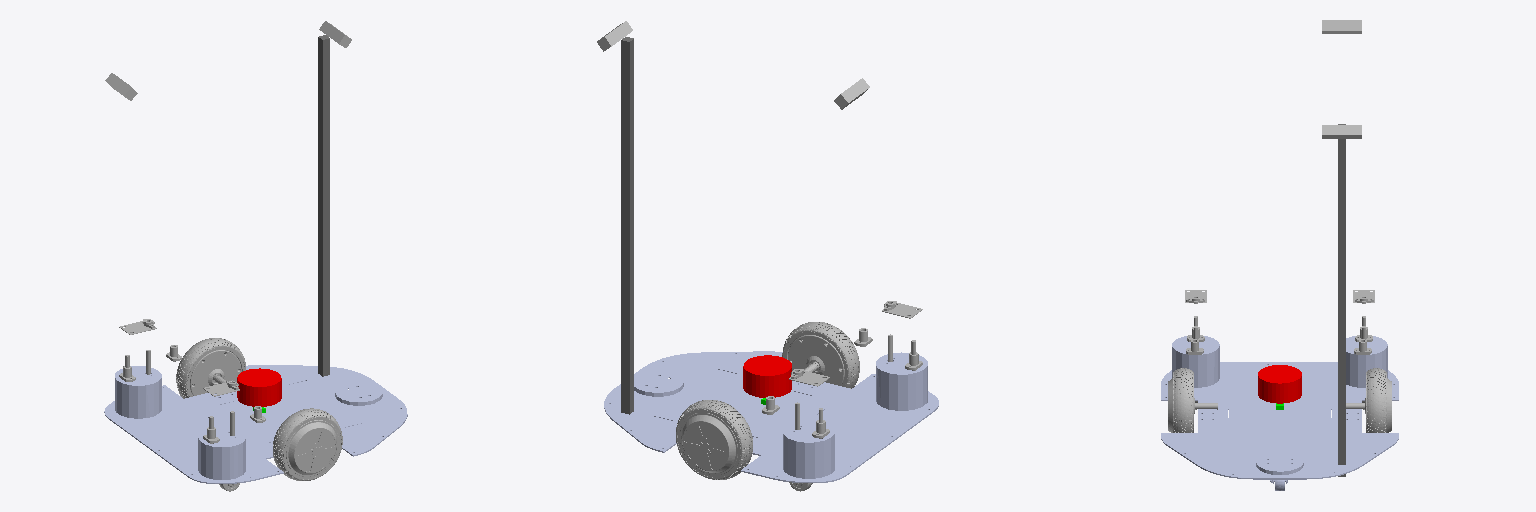
robot.urdf — my_diff_drive_robot:
<?xml version="1.0"?>
<robot name="my_diff_drive_robot">

  <!-- ========================= -->
  <!-- Materials                 -->
  <!-- ========================= -->
  <material name="blue">
    <color rgba="0 0 0.8 1"/>
  </material>

  <material name="green">
    <color rgba="0 1 0 1"/>
  </material>

  <material name="red">
    <color rgba="1 0 0 1"/>
  </material>

  <material name="grey">
    <color rgba="0.5 0.5 0.5 1"/>
  </material>

  <material name="silver">
    <color rgba="0.75 0.75 0.75 1"/>
  </material>

  <material name="black">
    <color rgba="0 0 0 1"/>
  </material>

  <material name="chassis_mat">
    <color rgba="0.792156862745098 0.819607843137255 0.933333333333333 1"/>
  </material>

  <material name="wheel_mat">
    <color rgba="0.75294 0.75294 0.75294 1"/>
  </material>

  <!-- ========================= -->
  <!-- Base Footprint            -->
  <!-- ========================= -->
  <link name="base_footprint"/>

  <!--
    In SolidWorks coordinates, drive wheel axle is at Z = 0.055472 m.
    Drive wheel radius is R = 0.085998 m.
    Bottom of drive wheels: Z = 0.055472 - 0.085998 = -0.030526 m.
    To place base_footprint tangent to the ground plane (Z = 0):
    base_joint origin Z is set to 0.030526 m.
  -->
  <joint name="base_joint" type="fixed">
    <parent link="base_footprint"/>
    <child link="base_link"/>
    <origin xyz="0 0 0.030526" rpy="0 0 0"/>
  </joint>

  <!-- ========================= -->
  <!-- Base Link (SolidWorks CAD) -->
  <!-- Normalized origin: Midpoint of drive wheels at X=0, Y=0 -->
  <!-- Offset from SolidWorks origin: dX = 0.18805 m, dY = 0.21300 m -->
  <!-- ========================= -->
  <link name="base_link">
    <inertial>
      <!-- Center of mass shifted by dX = 0.18805, dY = 0.2130 -->
      <origin xyz="0.033360511 0.0000017 0.03538706" rpy="0 0 0"/>
      <mass value="1.25495205"/>
      <inertia ixx="0.02042045" ixy="1.149356E-06" ixz="0.00131466"
               iyy="0.02975992" iyz="1.67329E-08"
               izz="0.04933740"/>
    </inertial>

    <visual>
      <origin xyz="-0.18805 -0.2130 0" rpy="0 0 0"/>
      <geometry>
        <mesh filename="package://mo_hinh/meshes/base_link.STL"/>
      </geometry>
      <material name="chassis_mat"/>
    </visual>

    <!-- Simplified box collision to avoid heavy Gazebo collision computations -->
    <collision>
      <origin xyz="0.02 0.0 0.06869" rpy="0 0 0"/>
      <geometry>
        <box size="0.62 0.54 0.085"/>
      </geometry>
    </collision>
  </link>

  <!-- ========================= -->
  <!-- Drive Wheels (Diff Drive) -->
  <!-- Left Wheel                -->
  <!-- ========================= -->
  <joint name="wheel_left_joint" type="continuous">
    <parent link="base_link"/>
    <child link="wheel_left_link"/>
    <origin xyz="0 0.2534 0.055472" rpy="0 0 0"/>
    <axis xyz="0 1 0"/>
  </joint>

  <link name="wheel_left_link">
    <inertial>
      <origin xyz="-5.0984E-06 -0.033015 7.7331E-06" rpy="0 0 0"/>
      <mass value="0.79711"/>
      <inertia ixx="0.0016716" ixy="3.0102E-08" ixz="-3.8937E-08"
               iyy="0.0030919" iyz="1.8966E-07"
               izz="0.0016716"/>
    </inertial>

    <visual>
      <origin xyz="0 0 0" rpy="0 0 0"/>
      <geometry>
        <mesh filename="package://mo_hinh/meshes/wheel_left_link.STL"/>
      </geometry>
      <material name="wheel_mat"/>
    </visual>

    <!-- Simplified cylinder collision along rotation axis Y -->
    <collision>
      <origin xyz="0 -0.0567 0" rpy="1.57079632679 0 0"/>
      <geometry>
        <cylinder radius="0.085998" length="0.1134"/>
      </geometry>
    </collision>
  </link>

  <!-- ========================= -->
  <!-- Right Wheel               -->
  <!-- ========================= -->
  <joint name="wheel_right_joint" type="continuous">
    <parent link="base_link"/>
    <child link="wheel_right_link"/>
    <origin xyz="0 -0.2534 0.055472" rpy="0 0 0"/>
    <axis xyz="0 1 0"/>
  </joint>

  <link name="wheel_right_link">
    <inertial>
      <origin xyz="5.0984E-06 0.033015 7.7331E-06" rpy="0 0 0"/>
      <mass value="0.79711"/>
      <inertia ixx="0.0016716" ixy="3.0102E-08" ixz="3.8937E-08"
               iyy="0.0030919" iyz="-1.8966E-07"
               izz="0.0016716"/>
    </inertial>

    <visual>
      <origin xyz="0 0 0" rpy="0 0 0"/>
      <geometry>
        <mesh filename="package://mo_hinh/meshes/wheel_right_link.STL"/>
      </geometry>
      <material name="wheel_mat"/>
    </visual>

    <!-- Simplified cylinder collision along rotation axis Y -->
    <collision>
      <origin xyz="0 0.0567 0" rpy="1.57079632679 0 0"/>
      <geometry>
        <cylinder radius="0.085998" length="0.1134"/>
      </geometry>
    </collision>
  </link>

  <!-- ========================= -->
  <!-- Caster Wheels (Bánh phụ)  -->
  <!-- 1. Bánh phụ trước (Front) -->
  <!-- ========================= -->
  <joint name="caster_front_joint" type="fixed">
    <parent link="base_link"/>
    <child link="caster_front_link"/>
    <origin xyz="0.27378 0.019 -0.0023223" rpy="0 0 0"/>
  </joint>

  <link name="caster_front_link">
    <inertial>
      <origin xyz="-0.0051384 -0.019049 0.0083478" rpy="0 0 0"/>
      <mass value="0.06026"/>
      <inertia ixx="2.3601E-05" ixy="1.4688E-08" ixz="7.1694E-06"
               iyy="3.2253E-05" iyz="-2.4004E-08"
               izz="1.8571E-05"/>
    </inertial>

    <visual>
      <origin xyz="0 0 0" rpy="0 0 0"/>
      <geometry>
        <mesh filename="package://mo_hinh/meshes/caster_front_Link.STL"/>
      </geometry>
      <material name="chassis_mat"/>
    </visual>

    <!-- Sphere collision centered on the wheel contact patch -->
    <collision>
      <origin xyz="0 -0.019 -0.003204" rpy="0 0 0"/>
      <geometry>
        <sphere radius="0.025"/>
      </geometry>
    </collision>
  </link>

  <!-- ========================= -->
  <!-- 2. Bánh phụ trái (Left)   -->
  <!-- ========================= -->
  <joint name="caster_left_joint" type="fixed">
    <parent link="base_link"/>
    <child link="caster_left_link"/>
    <origin xyz="-0.18805 0.20898 -3.3809E-05" rpy="0 0 0"/>
  </joint>

  <link name="caster_left_link">
    <inertial>
      <origin xyz="-0.0080178 -0.019209 0.06248" rpy="0 0 0"/>
      <mass value="0.12754"/>
      <inertia ixx="6.4519E-05" ixy="1.3465E-08" ixz="7.1762E-06"
               iyy="7.2379E-05" iyz="-2.3834E-08"
               izz="3.9114E-05"/>
    </inertial>

    <visual>
      <origin xyz="0 0 0" rpy="0 0 0"/>
      <geometry>
        <mesh filename="package://mo_hinh/meshes/caster_left_link.STL"/>
      </geometry>
      <material name="wheel_mat"/>
    </visual>

    <!-- Sphere collision centered on the wheel contact patch -->
    <collision>
      <origin xyz="0 -0.019 -0.005492" rpy="0 0 0"/>
      <geometry>
        <sphere radius="0.025"/>
      </geometry>
    </collision>
  </link>

  <!-- ========================= -->
  <!-- 3. Bánh phụ phải (Right)  -->
  <!-- Correct assembly joint origin (candidate 1 from SolidWorks URDF) -->
  <!-- ========================= -->
  <joint name="caster_right_joint" type="fixed">
    <parent link="base_link"/>
    <child link="caster_right_link"/>
    <origin xyz="-0.18805 -0.2130 0" rpy="0 0 0"/>
  </joint>

  <link name="caster_right_link">
    <inertial>
      <origin xyz="-0.0080095 0.022791 0.062472" rpy="0 0 0"/>
      <mass value="0.12754"/>
      <inertia ixx="6.4519E-05" ixy="1.3465E-08" ixz="7.1762E-06"
               iyy="7.2379E-05" iyz="-2.3834E-08"
               izz="3.9114E-05"/>
    </inertial>

    <visual>
      <origin xyz="0 0 0" rpy="0 0 0"/>
      <geometry>
        <mesh filename="package://mo_hinh/meshes/caster_right_Link.STL"/>
      </geometry>
      <material name="wheel_mat"/>
    </visual>

    <!-- Sphere collision centered on the wheel contact patch -->
    <collision>
      <origin xyz="0 0.023 -0.005518" rpy="0 0 0"/>
      <geometry>
        <sphere radius="0.025"/>
      </geometry>
    </collision>
  </link>

  <!-- ========================= -->
  <!-- Gazebo Friction Settings  -->
  <!-- ========================= -->
  <gazebo reference="wheel_left_link">
    <mu1>1.0</mu1>
    <mu2>1.0</mu2>
  </gazebo>

  <gazebo reference="wheel_right_link">
    <mu1>1.0</mu1>
    <mu2>1.0</mu2>
  </gazebo>

  <gazebo reference="caster_front_link">
    <mu1>0.001</mu1>
    <mu2>0.001</mu2>
  </gazebo>

  <gazebo reference="caster_left_link">
    <mu1>0.001</mu1>
    <mu2>0.001</mu2>
  </gazebo>

  <gazebo reference="caster_right_link">
    <mu1>0.001</mu1>
    <mu2>0.001</mu2>
  </gazebo>

  <!-- ========================= -->
  <!-- IMU                       -->
  <!-- ========================= -->
  <link name="imu_link">
    <visual>
      <geometry>
        <box size="0.02 0.02 0.01"/>
      </geometry>
      <material name="green"/>
    </visual>

    <collision>
      <geometry>
        <box size="0.02 0.02 0.01"/>
      </geometry>
    </collision>

    <inertial>
      <origin xyz="0 0 0" rpy="0 0 0"/>
      <mass value="0.02"/>
      <inertia ixx="1e-5" ixy="0.0" ixz="0.0"
               iyy="1e-5" iyz="0.0"
               izz="1e-5"/>
    </inertial>
  </link>

  <joint name="imu_joint" type="fixed">
    <parent link="base_link"/>
    <child link="imu_link"/>
    <origin xyz="0 0 0.055" rpy="0 0 0"/>
  </joint>

  <!-- ========================= -->
  <!-- 2D LiDAR Link             -->
  <!-- ========================= -->
  <link name="laser_link">
    <visual>
      <origin xyz="0 0 -0.04" rpy="0 0 0"/>
      <geometry>
        <cylinder radius="0.05" length="0.05"/>
      </geometry>
      <material name="red"/>
    </visual>

    <inertial>
      <origin xyz="0 0 0" rpy="0 0 0"/>
      <mass value="0.10"/>
      <inertia ixx="1e-4" ixy="0.0" ixz="0.0"
               iyy="1e-4" iyz="0.0"
               izz="1e-4"/>
    </inertial>
  </link>

  <joint name="laser_joint" type="fixed">
    <parent link="base_link"/>
    <child link="laser_link"/>
    <origin xyz="0 0 0.15" rpy="0 0 0"/>
  </joint>

  <!-- ========================= -->
  <!-- Support Link              -->
  <!-- ========================= -->
  <link name="support_link">
    <visual>
      <geometry>
        <box size="0.02 0.02 0.87"/>
      </geometry>
      <material name="grey"/>
    </visual>

    <collision>
      <geometry>
        <box size="0.02 0.02 0.87"/>
      </geometry>
    </collision>

    <inertial>
      <origin xyz="0 0 0" rpy="0 0 0"/>
      <mass value="0.15"/>
      <inertia ixx="2e-4" ixy="0.0" ixz="0.0"
               iyy="2e-4" iyz="0.0"
               izz="1e-5"/>
    </inertial>
  </link>

  <joint name="support_joint" type="fixed">
    <parent link="base_link"/>
    <child link="support_link"/>
    <origin xyz="0.25 0.14 0.435" rpy="0 0 0"/>
  </joint>

  <!-- ========================= -->
  <!-- Camera Link               -->
  <!-- ========================= -->
  <link name="camera_link">
    <visual>
      <geometry>
        <box size="0.025 0.09 0.025"/>
      </geometry>
      <material name="silver"/>
    </visual>

    <collision>
      <geometry>
        <box size="0.025 0.09 0.025"/>
      </geometry>
    </collision>

    <inertial>
      <origin xyz="0 0 0" rpy="0 0 0"/>
      <mass value="0.10"/>
      <inertia ixx="5e-5" ixy="0.0" ixz="0.0"
               iyy="5e-5" iyz="0.0"
               izz="5e-5"/>
    </inertial>
  </link>

  <joint name="camera_joint" type="fixed">
    <parent link="base_link"/>
    <child link="camera_link"/>
    <origin xyz="0.28 0.14 0.87" rpy="0 0.698132 0"/>
  </joint>

  <!-- Optical frame -->
  <link name="camera_color_optical_frame">
    <inertial>
      <origin xyz="0 0 0" rpy="0 0 0"/>
      <mass value="0.0001"/>
      <inertia ixx="1e-9" ixy="0.0" ixz="0.0"
               iyy="1e-9" iyz="0.0"
               izz="1e-9"/>
    </inertial>
  </link>

  <joint name="camera_optical_joint" type="fixed">
    <parent link="camera_link"/>
    <child link="camera_color_optical_frame"/>
    <origin xyz="0 0 0" rpy="-1.5708 0 -1.5708"/>
  </joint>

  <!-- Depth Optical frame -->
  <link name="camera_depth_optical_frame">
    <inertial>
      <origin xyz="0 0 0" rpy="0 0 0"/>
      <mass value="0.0001"/>
      <inertia ixx="1e-9" ixy="0.0" ixz="0.0"
               iyy="1e-9" iyz="0.0"
               izz="1e-9"/>
    </inertial>
  </link>

  <joint name="camera_depth_optical_joint" type="fixed">
    <parent link="camera_link"/>
    <child link="camera_depth_optical_frame"/>
    <origin xyz="0 0 0" rpy="-1.5708 0 -1.5708"/>
  </joint>

  <!-- ========================= -->
  <!-- Rear Camera Link          -->
  <!-- ========================= -->
  <link name="rear_camera_link">
    <visual>
      <geometry>
        <box size="0.025 0.09 0.025"/>
      </geometry>
      <material name="silver"/>
    </visual>
    <collision>
      <geometry>
        <box size="0.025 0.09 0.025"/>
      </geometry>
    </collision>
    <inertial>
      <origin xyz="0 0 0" rpy="0 0 0"/>
      <mass value="0.10"/>
      <inertia ixx="5e-5" ixy="0.0" ixz="0.0"
               iyy="5e-5" iyz="0.0"
               izz="5e-5"/>
    </inertial>
  </link>

  <joint name="rear_camera_joint" type="fixed">
    <parent link="base_link"/>
    <child link="rear_camera_link"/>
    <origin xyz="-0.28 0.14 0.87" rpy="0 0.698132 3.14159265"/>
  </joint>

  <!-- Rear Depth Optical frame -->
  <link name="rear_camera_depth_optical_frame">
    <inertial>
      <origin xyz="0 0 0" rpy="0 0 0"/>
      <mass value="0.0001"/>
      <inertia ixx="1e-9" ixy="0.0" ixz="0.0"
               iyy="1e-9" iyz="0.0"
               izz="1e-9"/>
    </inertial>
  </link>

  <joint name="rear_camera_depth_optical_joint" type="fixed">
    <parent link="rear_camera_link"/>
    <child link="rear_camera_depth_optical_frame"/>
    <origin xyz="0 0 0" rpy="-1.5708 0 -1.5708"/>
  </joint>

  <!-- Rear Scan Frame -->
  <link name="rear_scan_frame"/>

  <joint name="rear_scan_joint" type="fixed">
    <parent link="base_link"/>
    <child link="rear_scan_frame"/>
    <origin xyz="-0.28 0.14 0.0" rpy="0 0 3.14159265"/>
  </joint>

  <!-- ========================= -->
  <!-- Gazebo Sim Plugins        -->
  <!-- ========================= -->
  <gazebo>
    <plugin filename="gz-sim-diff-drive-system" name="gz::sim::systems::DiffDrive">
      <left_joint>wheel_left_joint</left_joint>
      <right_joint>wheel_right_joint</right_joint>
      <wheel_separation>0.5068</wheel_separation>
      <wheel_radius>0.086</wheel_radius>
      <max_linear_acceleration>1.0</max_linear_acceleration>
      <min_linear_acceleration>-1.0</min_linear_acceleration>
      <max_angular_acceleration>2.0</max_angular_acceleration>
      <min_angular_acceleration>-2.0</min_angular_acceleration>
      <max_linear_velocity>1.0</max_linear_velocity>
      <min_linear_velocity>-1.0</min_linear_velocity>
      <max_angular_velocity>2.0</max_angular_velocity>
      <min_angular_velocity>-2.0</min_angular_velocity>
      <topic>cmd_vel</topic>
      <odom_topic>odom</odom_topic>
      <tf_topic>tf</tf_topic>
      <frame_id>odom</frame_id>
      <child_frame_id>base_footprint</child_frame_id>
      <odom_publisher_frequency>50</odom_publisher_frequency>
    </plugin>

    <plugin filename="gz-sim-joint-state-publisher-system" name="gz::sim::systems::JointStatePublisher">
      <topic>joint_states</topic>
      <joint_name>wheel_left_joint</joint_name>
      <joint_name>wheel_right_joint</joint_name>
    </plugin>
  </gazebo>

  <!-- IMU Sensor -->
  <gazebo reference="imu_link">
    <sensor name="imu_sensor" type="imu">
      <always_on>true</always_on>
      <update_rate>100.0</update_rate>
      <visualize>false</visualize>
      <topic>imu/data</topic>
      <gz_frame_id>imu_link</gz_frame_id>
      <imu>
        <angular_velocity>
          <x><noise type="gaussian"><mean>0.0</mean><stddev>0.0002</stddev></noise></x>
          <y><noise type="gaussian"><mean>0.0</mean><stddev>0.0002</stddev></noise></y>
          <z><noise type="gaussian"><mean>0.0</mean><stddev>0.0002</stddev></noise></z>
        </angular_velocity>
        <linear_acceleration>
          <x><noise type="gaussian"><mean>0.0</mean><stddev>0.017</stddev></noise></x>
          <y><noise type="gaussian"><mean>0.0</mean><stddev>0.017</stddev></noise></y>
          <z><noise type="gaussian"><mean>0.0</mean><stddev>0.017</stddev></noise></z>
        </linear_acceleration>
      </imu>
    </sensor>
  </gazebo>

  <!-- 2D LiDAR Sensor -->
  <gazebo reference="laser_link">
    <sensor name="lidar_sensor" type="gpu_lidar">
      <always_on>true</always_on>
      <visualize>true</visualize>
      <update_rate>12.0</update_rate>
      <topic>scan</topic>
      <gz_frame_id>laser_link</gz_frame_id>
      <lidar>
        <scan>
          <horizontal>
            <samples>720</samples>
            <resolution>1</resolution>
            <min_angle>-3.14159265</min_angle>
            <max_angle>3.14159265</max_angle>
          </horizontal>
        </scan>
        <range>
          <min>0.12</min>
          <max>12.0</max>
          <resolution>0.01</resolution>
        </range>
        <noise>
          <type>gaussian</type>
          <mean>0.0</mean>
          <stddev>0.01</stddev>
        </noise>
      </lidar>
    </sensor>
  </gazebo>

  <!-- Front Camera Sensors (Depth) -->
  <gazebo reference="camera_link">
    <sensor name="front_depth_camera" type="depth_camera">
      <always_on>true</always_on>
      <visualize>false</visualize>
      <update_rate>15.0</update_rate>
      <topic>front_camera/depth/image_raw</topic>
      <gz_frame_id>camera_link</gz_frame_id>
      <camera name="front_depth_camera">
        <horizontal_fov>1.3962634</horizontal_fov>
        <image>
          <width>640</width>
          <height>480</height>
          <format>R8G8B8</format>
        </image>
        <clip>
          <near>0.1</near>
          <far>10.0</far>
        </clip>
      </camera>
    </sensor>
  </gazebo>

  <!-- Rear Camera Sensors (Depth) -->
  <gazebo reference="rear_camera_link">
    <sensor name="rear_depth_camera" type="depth_camera">
      <always_on>true</always_on>
      <visualize>false</visualize>
      <update_rate>15.0</update_rate>
      <topic>rear_camera/depth/image_raw</topic>
      <gz_frame_id>rear_camera_link</gz_frame_id>
      <camera name="rear_depth_camera">
        <horizontal_fov>1.3962634</horizontal_fov>
        <image>
          <width>640</width>
          <height>480</height>
          <format>R8G8B8</format>
        </image>
        <clip>
          <near>0.1</near>
          <far>10.0</far>
        </clip>
      </camera>
    </sensor>
  </gazebo>

  <!-- ========================= -->
  <!-- ros2_control Hardware Tag -->
  <!-- ========================= -->
  <ros2_control name="hoverboard_system" type="system">
    <hardware>
      <plugin>hoverboard_driver/hoverboard_driver</plugin>
      <param name="wheel_radius">0.08255</param>
      <param name="max_velocity">1.0</param>
      <param name="device">/dev/hoverboard</param>
    </hardware>
    <joint name="wheel_left_joint">
      <command_interface name="velocity"/>
      <state_interface name="position"/>
      <state_interface name="velocity"/>
    </joint>
    <joint name="wheel_right_joint">
      <command_interface name="velocity"/>
      <state_interface name="position"/>
      <state_interface name="velocity"/>
    </joint>
  </ros2_control>

</robot>

--- Render facts (derived) ---
The picture shows the robot from 3 angles, left to right: view 1: azimuth 30°, elevation 25°; view 2: azimuth 150°, elevation 25°; view 3: azimuth 270°, elevation 25°; orthographic projection.
Model my_diff_drive_robot with 16 links and 15 joints (2 continuous, 13 fixed), rooted at base_footprint, posed all joints at 0.
Links seen in each view (by area): view 1: base_link, support_link, wheel_right_link, wheel_left_link, laser_link, caster_right_link, caster_left_link; view 2: base_link, support_link, wheel_left_link, wheel_right_link, laser_link, caster_left_link, caster_right_link; view 3: base_link, support_link, wheel_right_link, wheel_left_link, laser_link, caster_left_link, caster_right_link, camera_link, rear_camera_link.
Boxes of the visible links, box(x1,y1,x2,y2) form: base_link: box(104, 365, 407, 483); support_link: box(318, 35, 329, 376); wheel_right_link: box(273, 408, 342, 480); wheel_left_link: box(176, 338, 245, 398); laser_link: box(237, 368, 281, 406); caster_right_link: box(203, 380, 265, 491); caster_left_link: box(119, 319, 181, 381); base_link: box(604, 351, 938, 482); support_link: box(621, 37, 633, 414); wheel_left_link: box(676, 400, 752, 479); wheel_right_link: box(782, 322, 859, 388); laser_link: box(743, 355, 791, 397); caster_left_link: box(762, 369, 829, 491); caster_right_link: box(854, 301, 922, 370); base_link: box(1161, 336, 1398, 479); support_link: box(1338, 124, 1345, 476); wheel_right_link: box(1168, 368, 1217, 432); wheel_left_link: box(1346, 368, 1391, 432); laser_link: box(1258, 365, 1301, 403); caster_left_link: box(1353, 290, 1374, 402); caster_right_link: box(1185, 290, 1206, 402); camera_link: box(1322, 125, 1361, 138); rear_camera_link: box(1322, 20, 1361, 33).
Bounding box of the posed robot: 0.6276 × 0.54 × 0.9181 m (x, y, z).
Meshes: 6 distinct files referenced, 6 mesh visuals loaded (6 binary STL).
